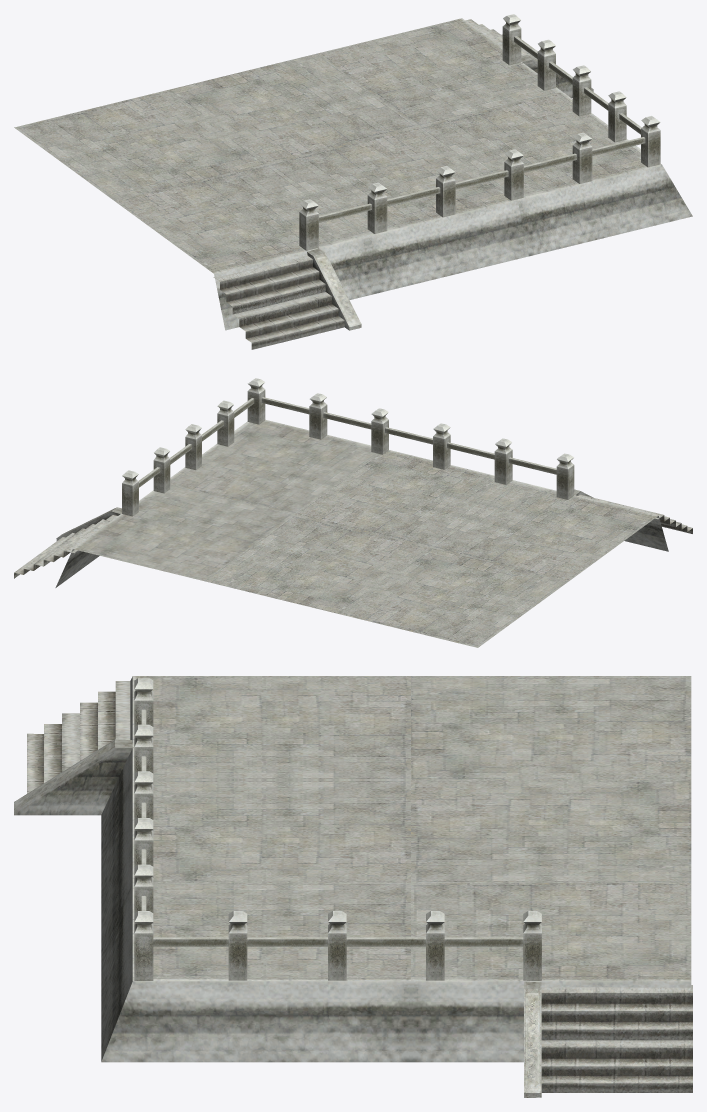
File: snow_tower01_02.fbx
3 renders of one model, top to bottom at view 1: azimuth 30°, elevation 25°; view 2: azimuth 150°, elevation 25°; view 3: azimuth 270°, elevation 25°, orthographic. The views are drawn at different scales.
Parts seen in each view (by area): view 1: snow_tower02_04; view 2: snow_tower02_04; view 3: snow_tower02_04.
Part boxes in pixels (x1,y1,x2,y2): snow_tower02_04: [14, 14, 692, 349]; snow_tower02_04: [14, 378, 692, 647]; snow_tower02_04: [14, 676, 692, 1097].
Bounding box in the file's own units: 42.52 × 7.32 × 34.43.
